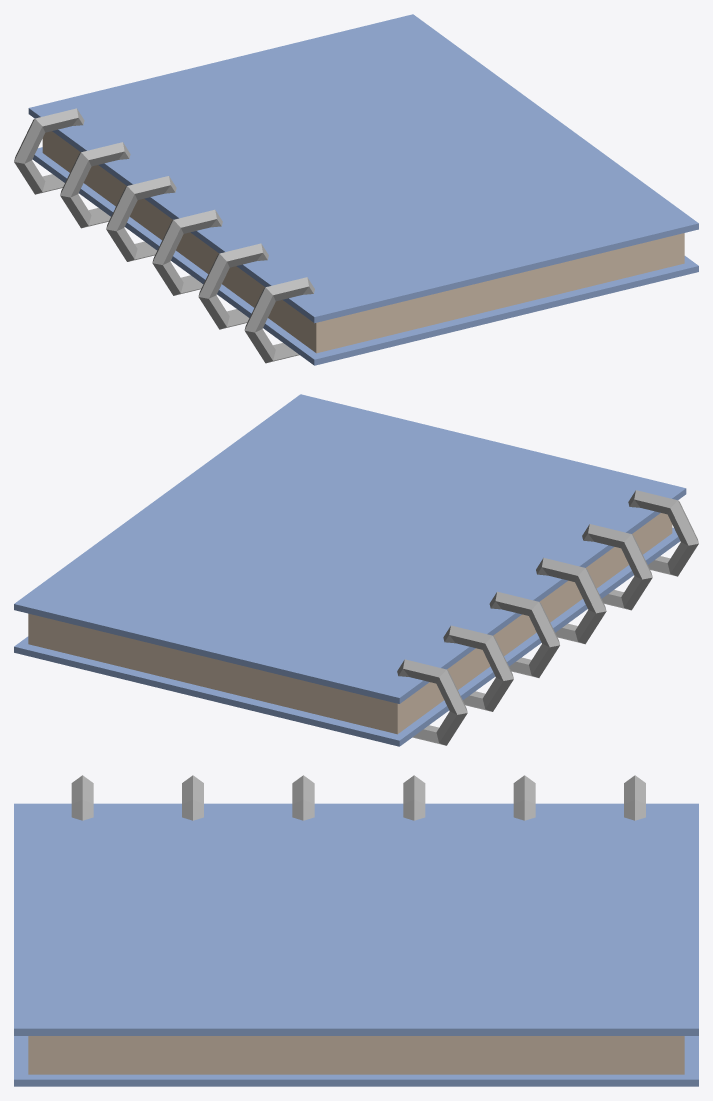
Rendered from NoteBook_01_dra.glb.
3 renders of one model, top to bottom at view 1: azimuth 30°, elevation 25°; view 2: azimuth 150°, elevation 25°; view 3: azimuth 270°, elevation 25°, orthographic. The views are drawn at different scales.
Parts seen in each view (by area): view 1: NoteBook_01; view 2: NoteBook_01; view 3: NoteBook_01.
Part boxes in pixels (x1,y1,x2,y2): NoteBook_01: [14, 14, 698, 365]; NoteBook_01: [14, 394, 698, 746]; NoteBook_01: [14, 775, 698, 1086].
Bounding box in the file's own units: 0.2219 × 0.0379 × 0.258.
1 material, 1 textured.
